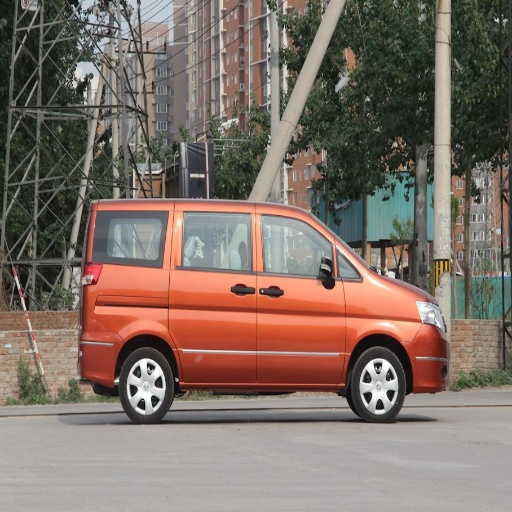back_right_door: (177, 208, 257, 378)
front_right_door: (256, 207, 359, 382)
trunk: (86, 264, 183, 379)
